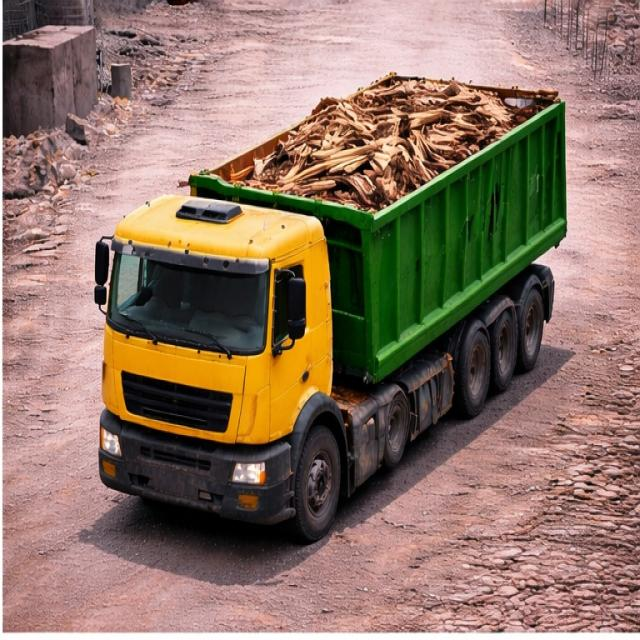Box: (188, 73, 556, 227)
Truck: (87, 71, 577, 518)
